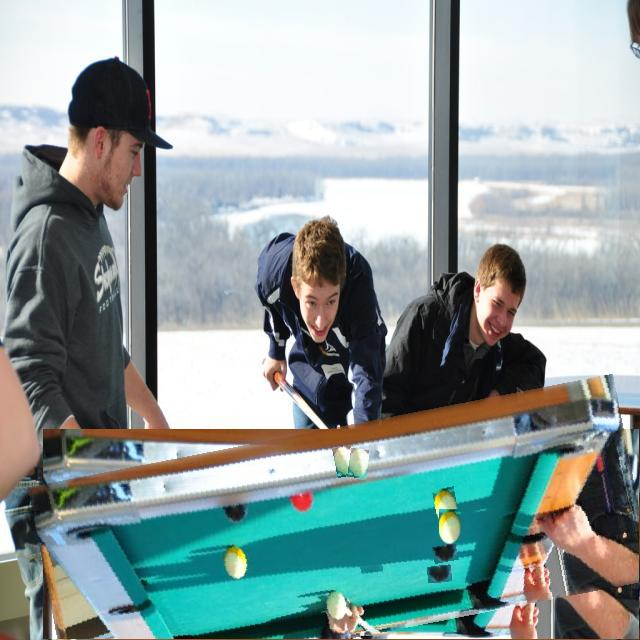Ball: (439, 509, 461, 544), (348, 449, 369, 480), (361, 560, 385, 583), (428, 564, 452, 583)
Billiard table: (35, 401, 640, 640)
